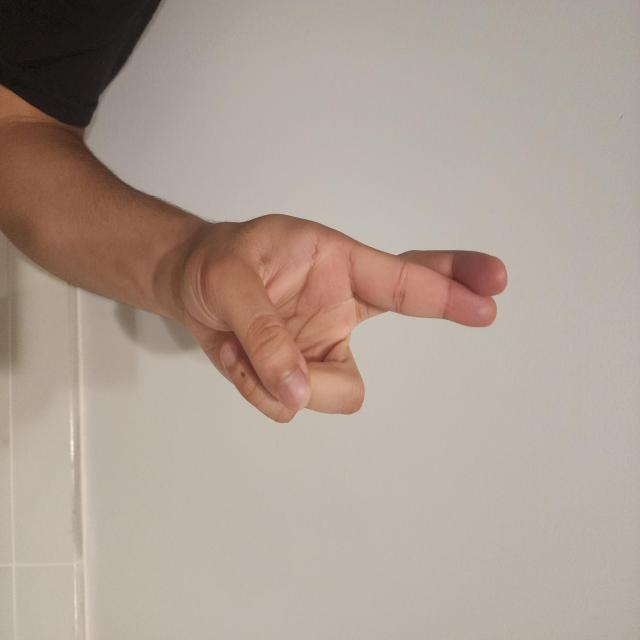R: (318, 168, 482, 626)
